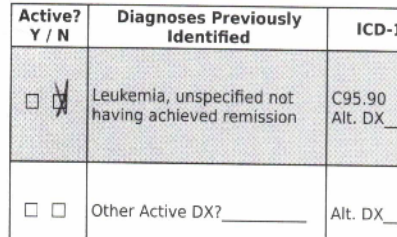checked: (47, 76, 77, 122)
